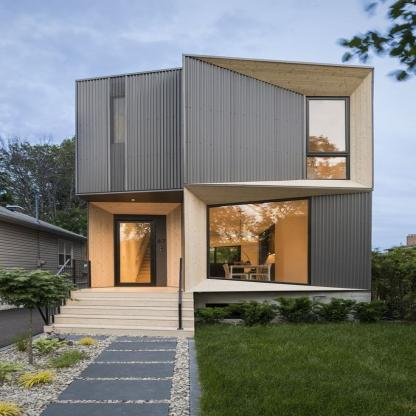Building Outline: (33, 52, 376, 338)
Door: (117, 221, 153, 286)
Facade: (33, 52, 375, 339)
Glass Wall: (209, 199, 307, 283)
Window: (308, 99, 346, 179), (206, 304, 260, 319), (114, 97, 125, 143)
